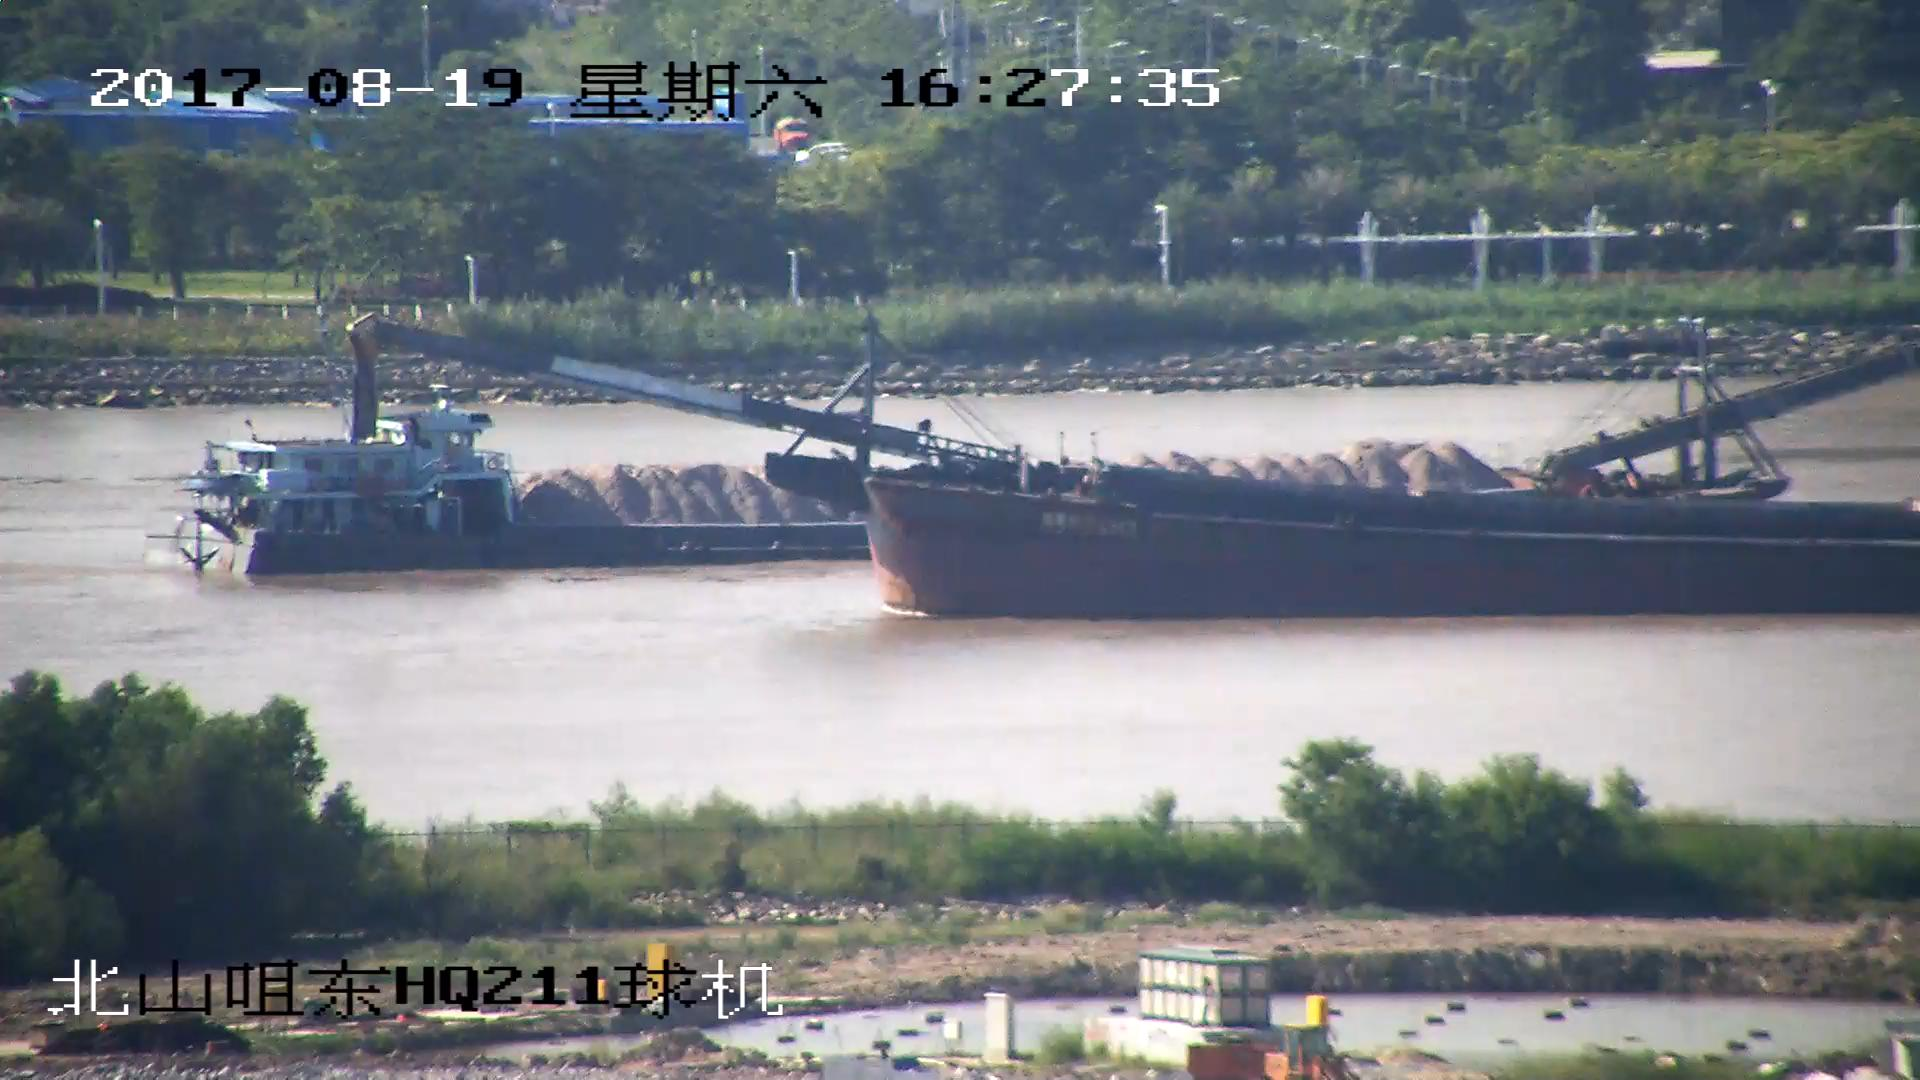bulk cargo carrier: (349, 325, 1919, 627)
ore carrier: (179, 348, 1920, 567)
